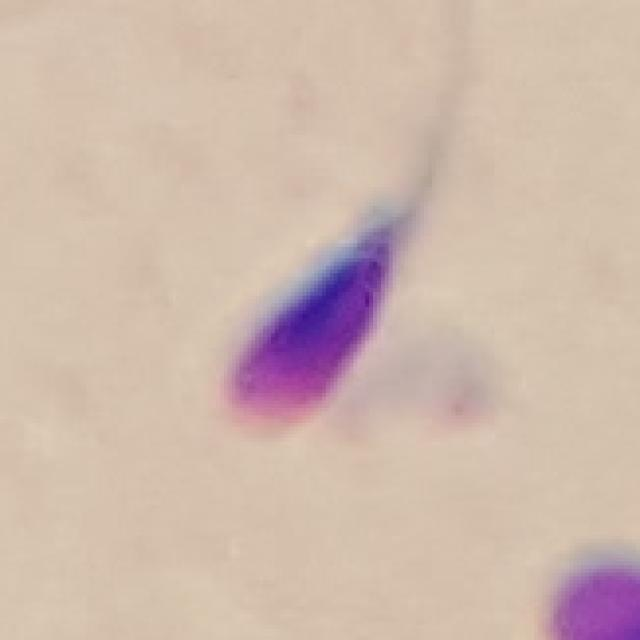abnormal sperm: (226, 112, 451, 432)
